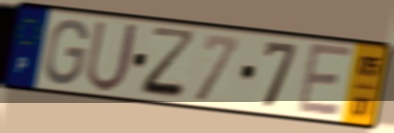7: (197, 33, 242, 105), (260, 38, 303, 111)
E: (295, 40, 355, 119)
G: (42, 17, 91, 88)
U: (83, 18, 141, 95)
Z: (139, 25, 200, 103)
